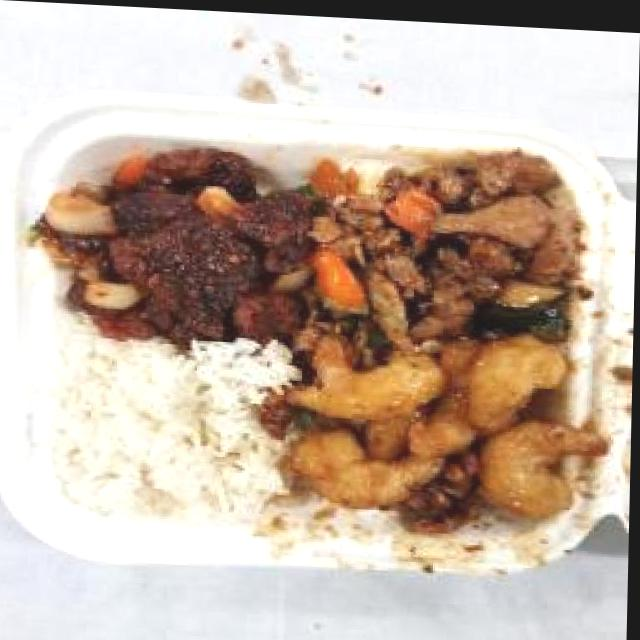Beijing Beef: (39, 132, 311, 346)
Honey Walnut Shrimp: (291, 322, 598, 533)
Kung Pao Chicken: (299, 135, 591, 362)
White Steamed Rice: (48, 337, 269, 524)
